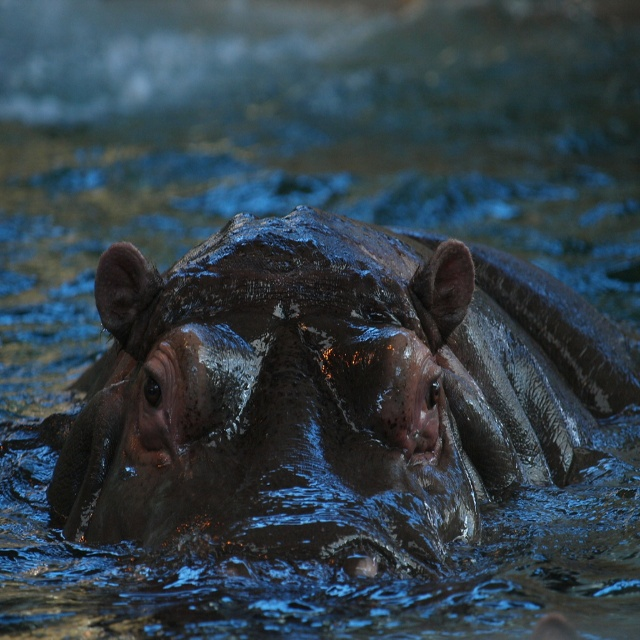Hippopotamus: (39, 203, 640, 577)
